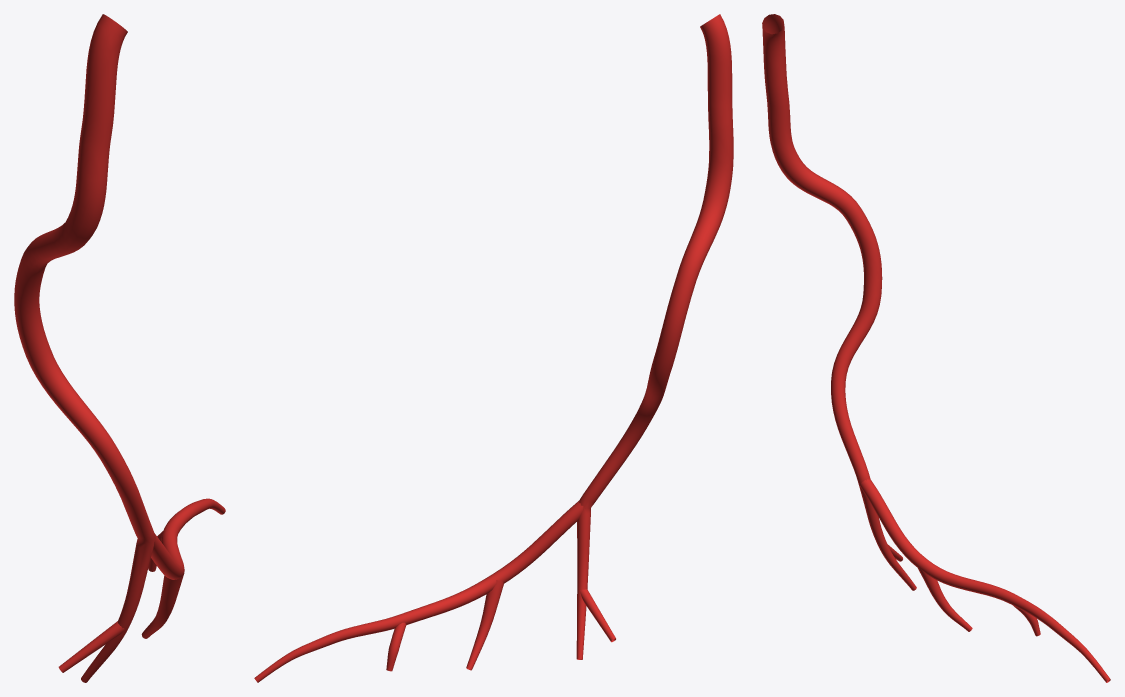
File: circulatorio-appendicular-artery.glb
The picture shows the model from 3 angles, left to right: view 1: azimuth 30°, elevation 25°; view 2: azimuth 150°, elevation 25°; view 3: azimuth 270°, elevation 25°; orthographic projection. The views are drawn at different scales.
Parts seen in each view (by area): view 1: Appendicular artery; view 2: Appendicular artery; view 3: Appendicular artery.
Boxes of the visible parts, x1,y1,x2,y2 form: Appendicular artery: [14, 14, 225, 682]; Appendicular artery: [254, 14, 733, 682]; Appendicular artery: [762, 14, 1110, 682].
Bounding box in the file's own units: 0.0339 × 0.0654 × 0.0372.
